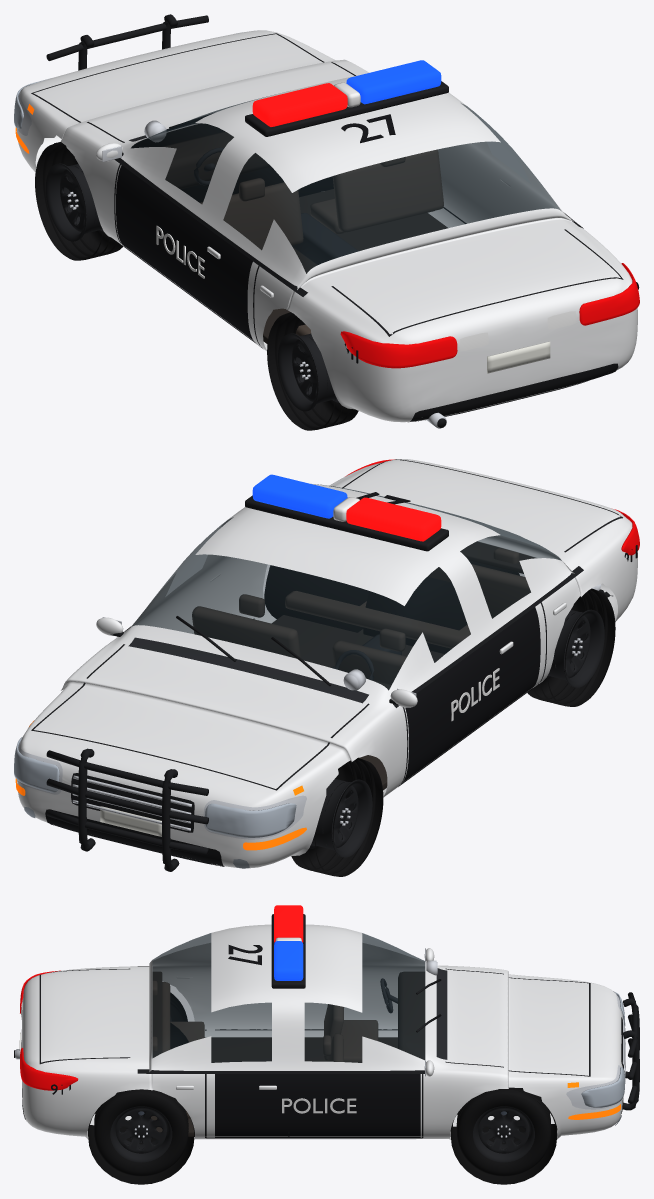
Rendered from PoliceCar.fbx.
3 views of the same model, one above another, from view 1: azimuth 30°, elevation 25°; view 2: azimuth 150°, elevation 25°; view 3: azimuth 270°, elevation 25° (orthographic). The views are drawn at different scales.
Visible parts, largest first — view 1: PoliceCar_Body, PoliceCar_Trim, PoliceCar_Glass, PoliceCar_Lights, PoliceCar_Wheel3, PoliceCar_Wheel1; view 2: PoliceCar_Body, PoliceCar_Trim, PoliceCar_Glass, PoliceCar_Lights, PoliceCar_Wheel1, PoliceCar_Wheel3; view 3: PoliceCar_Body, PoliceCar_Trim, PoliceCar_Glass, PoliceCar_Wheel4, PoliceCar_Wheel2, PoliceCar_Lights.
Boxes of the visible parts, x1=… form: PoliceCar_Body: x1=17, y1=30, x2=637, y2=422; PoliceCar_Trim: x1=18, y1=14, x2=639, y2=428; PoliceCar_Glass: x1=131, y1=96, x2=560, y2=273; PoliceCar_Lights: x1=14, y1=33, x2=639, y2=368; PoliceCar_Wheel3: x1=267, y1=312, x2=358, y2=430; PoliceCar_Wheel1: x1=35, y1=142, x2=123, y2=260; PoliceCar_Body: x1=17, y1=459, x2=637, y2=868; PoliceCar_Trim: x1=18, y1=459, x2=637, y2=871; PoliceCar_Glass: x1=132, y1=484, x2=561, y2=689; PoliceCar_Lights: x1=14, y1=459, x2=639, y2=868; PoliceCar_Wheel1: x1=291, y1=758, x2=383, y2=876; PoliceCar_Wheel3: x1=527, y1=588, x2=615, y2=706; PoliceCar_Body: x1=21, y1=924, x2=622, y2=1139; PoliceCar_Trim: x1=14, y1=914, x2=639, y2=1184; PoliceCar_Glass: x1=152, y1=933, x2=425, y2=1062; PoliceCar_Wheel4: x1=94, y1=1089, x2=188, y2=1176; PoliceCar_Wheel2: x1=456, y1=1089, x2=550, y2=1176; PoliceCar_Lights: x1=20, y1=905, x2=625, y2=1125.
Size of the model in its own units: 7.68 by 5.65 by 16.59.
